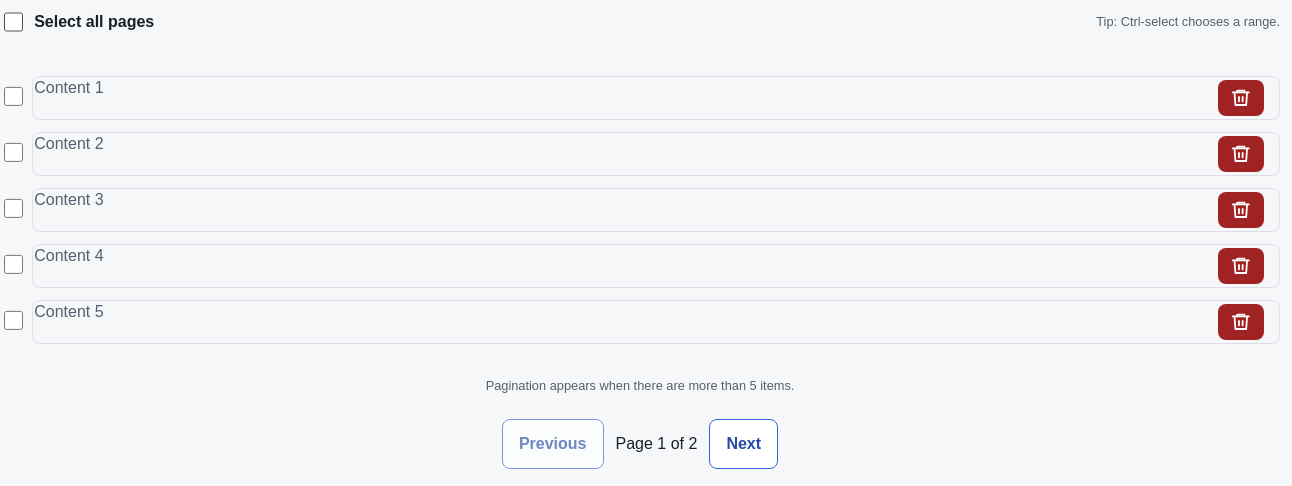
PaginatedSelectableList › paginates client records
The image size is (1292, 486).
What coordinates should you click on to do the following:
click the button "Next"
I would click on:
 (744, 444)
Its box is [709, 419, 778, 469].
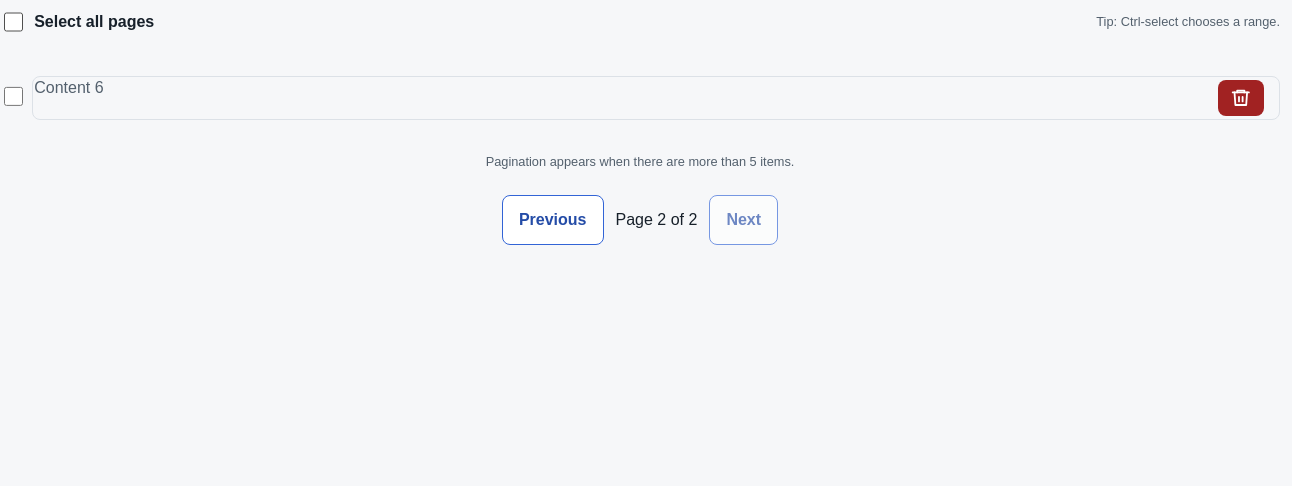
Result: the text "Content 6" is shown at [34, 79, 104, 96]
